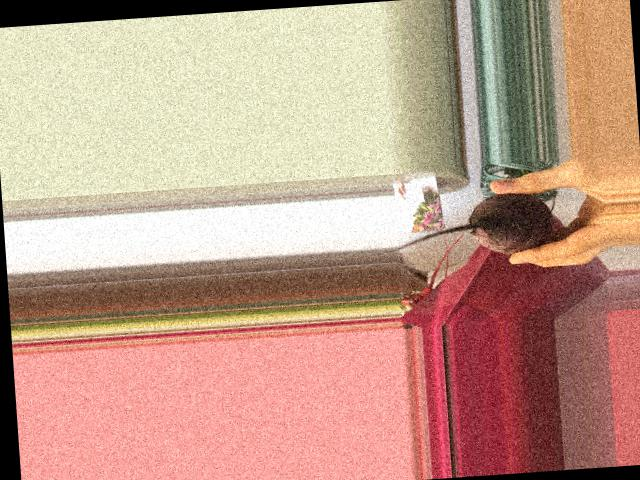beet: (391, 190, 557, 261)
